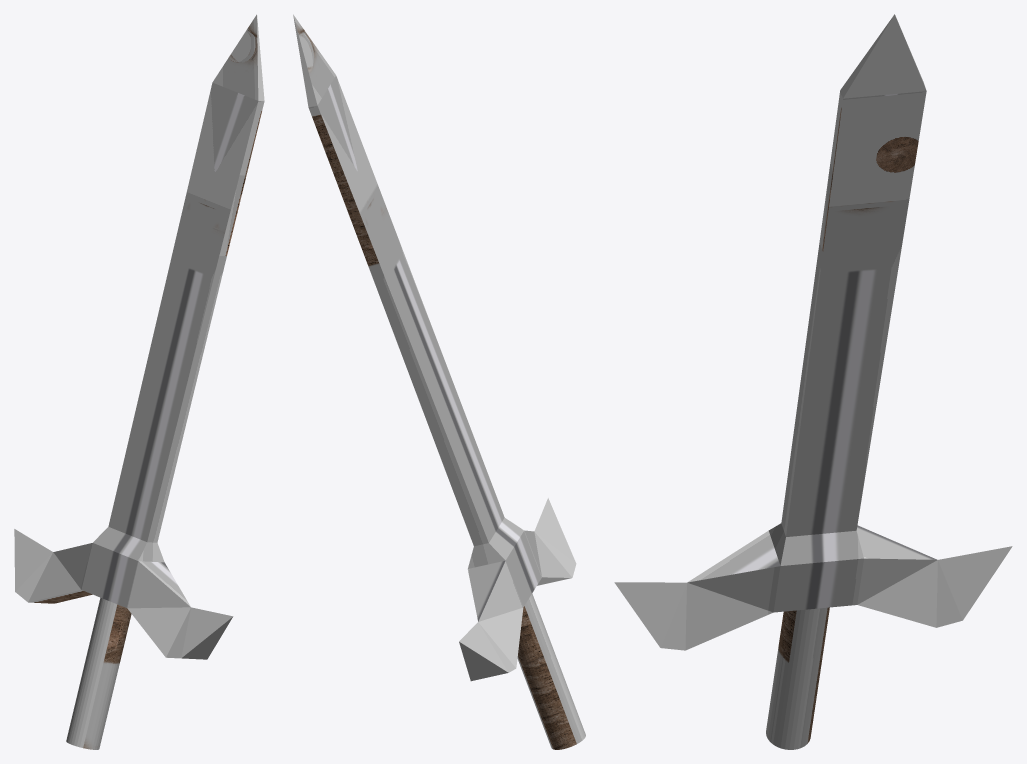
File: Protagonista110.obj
The picture shows the model from 3 angles, left to right: view 1: azimuth 30°, elevation 25°; view 2: azimuth 150°, elevation 25°; view 3: azimuth 270°, elevation 25°; orthographic projection. The views are drawn at different scales.
Parts seen in each view (by area): view 1: Cube; view 2: Cube; view 3: Cube.
Part boxes in pixels (<box>): Cube: <box>14,14,264,749</box>; Cube: <box>293,14,585,749</box>; Cube: <box>614,14,1012,749</box>.
Size of the model in its own units: 0.6051 by 1.66 by 0.6916.
1 material, 1 textured.
